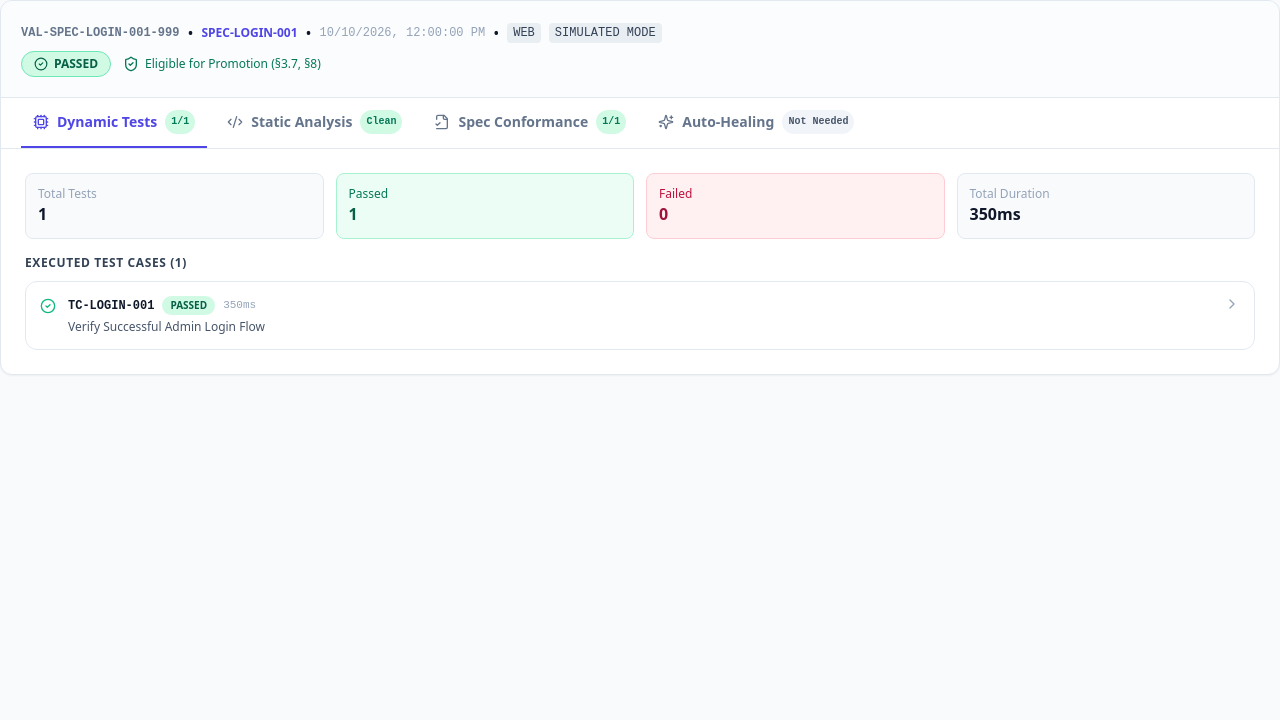
Test: ValidationReportView component (§W4) › switches tabs to inspect static code analysis and locators
Click Static Analysis tab
Click the button "Static Analysis Clean": (315, 123) [215,98,414,148]
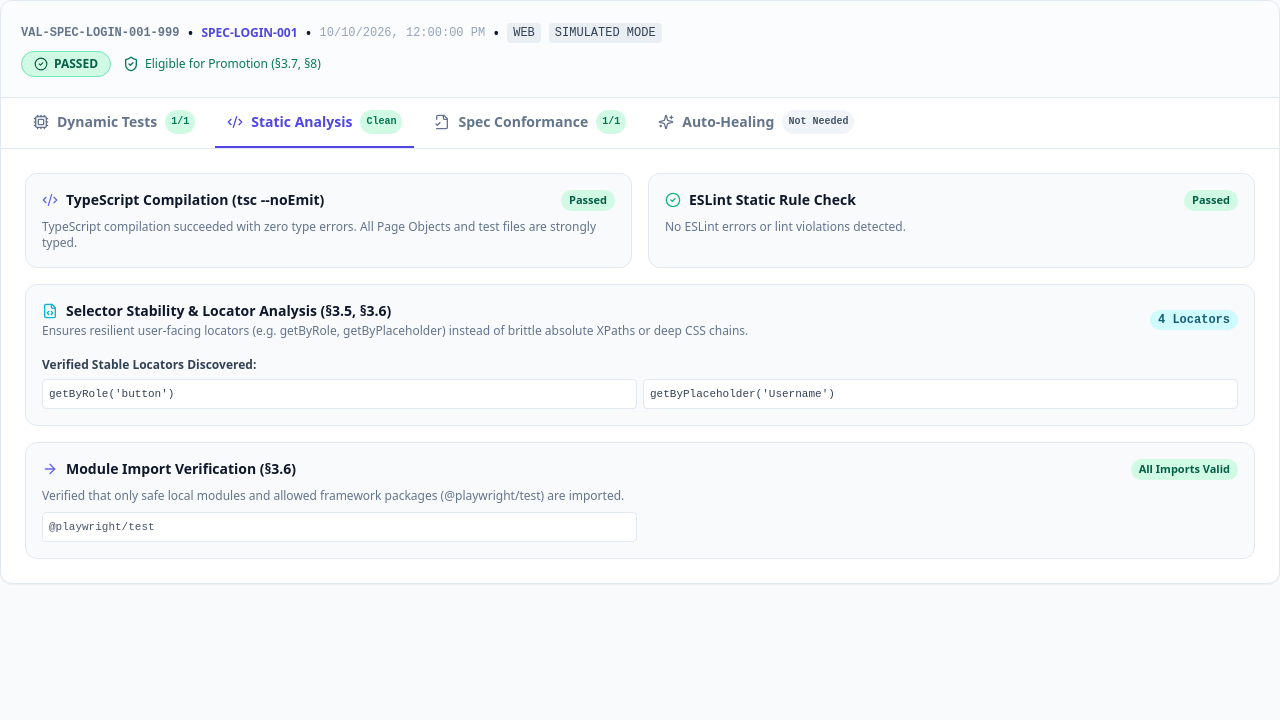
Expected: the heading "TypeScript Compilation (tsc --noEmit)" is shown, [42,190,324,210]
Expected: the heading "Selector Stability & Locator Analysis (§3.5, §3.6)" is shown, [42,300,391,320]
Expected: the text "getByRole('button')" is shown, [42,378,637,409]
